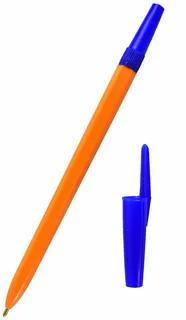pen-pencil: (13, 4, 163, 299), (123, 145, 149, 286)
